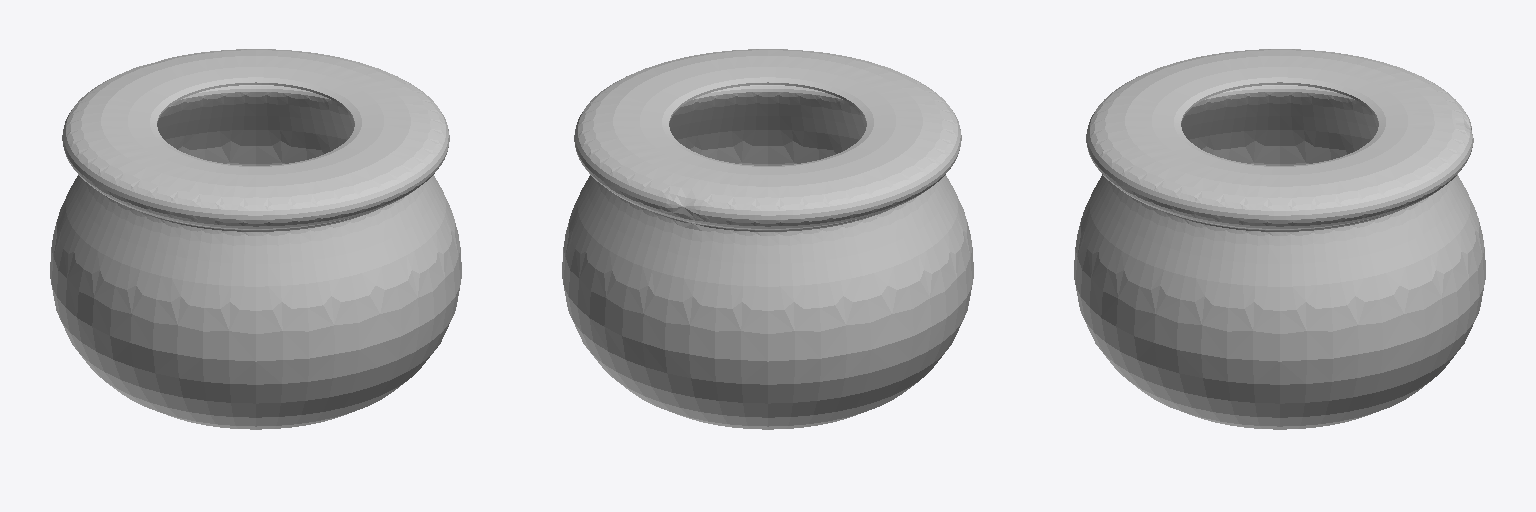
Rendered from fishy4.obj.
3 views of the same model, side by side, from view 1: azimuth 30°, elevation 25°; view 2: azimuth 150°, elevation 25°; view 3: azimuth 270°, elevation 25° (orthographic).
Visible parts, largest first — view 1: revolvedSurface1; view 2: revolvedSurface1; view 3: revolvedSurface1.
Boxes of the visible parts, box(x1,y1,x2,y2) form: revolvedSurface1: box(50, 49, 461, 429); revolvedSurface1: box(562, 49, 973, 429); revolvedSurface1: box(1074, 49, 1485, 429).
Bounding box in the file's own units: 15.77 × 11.39 × 15.77.